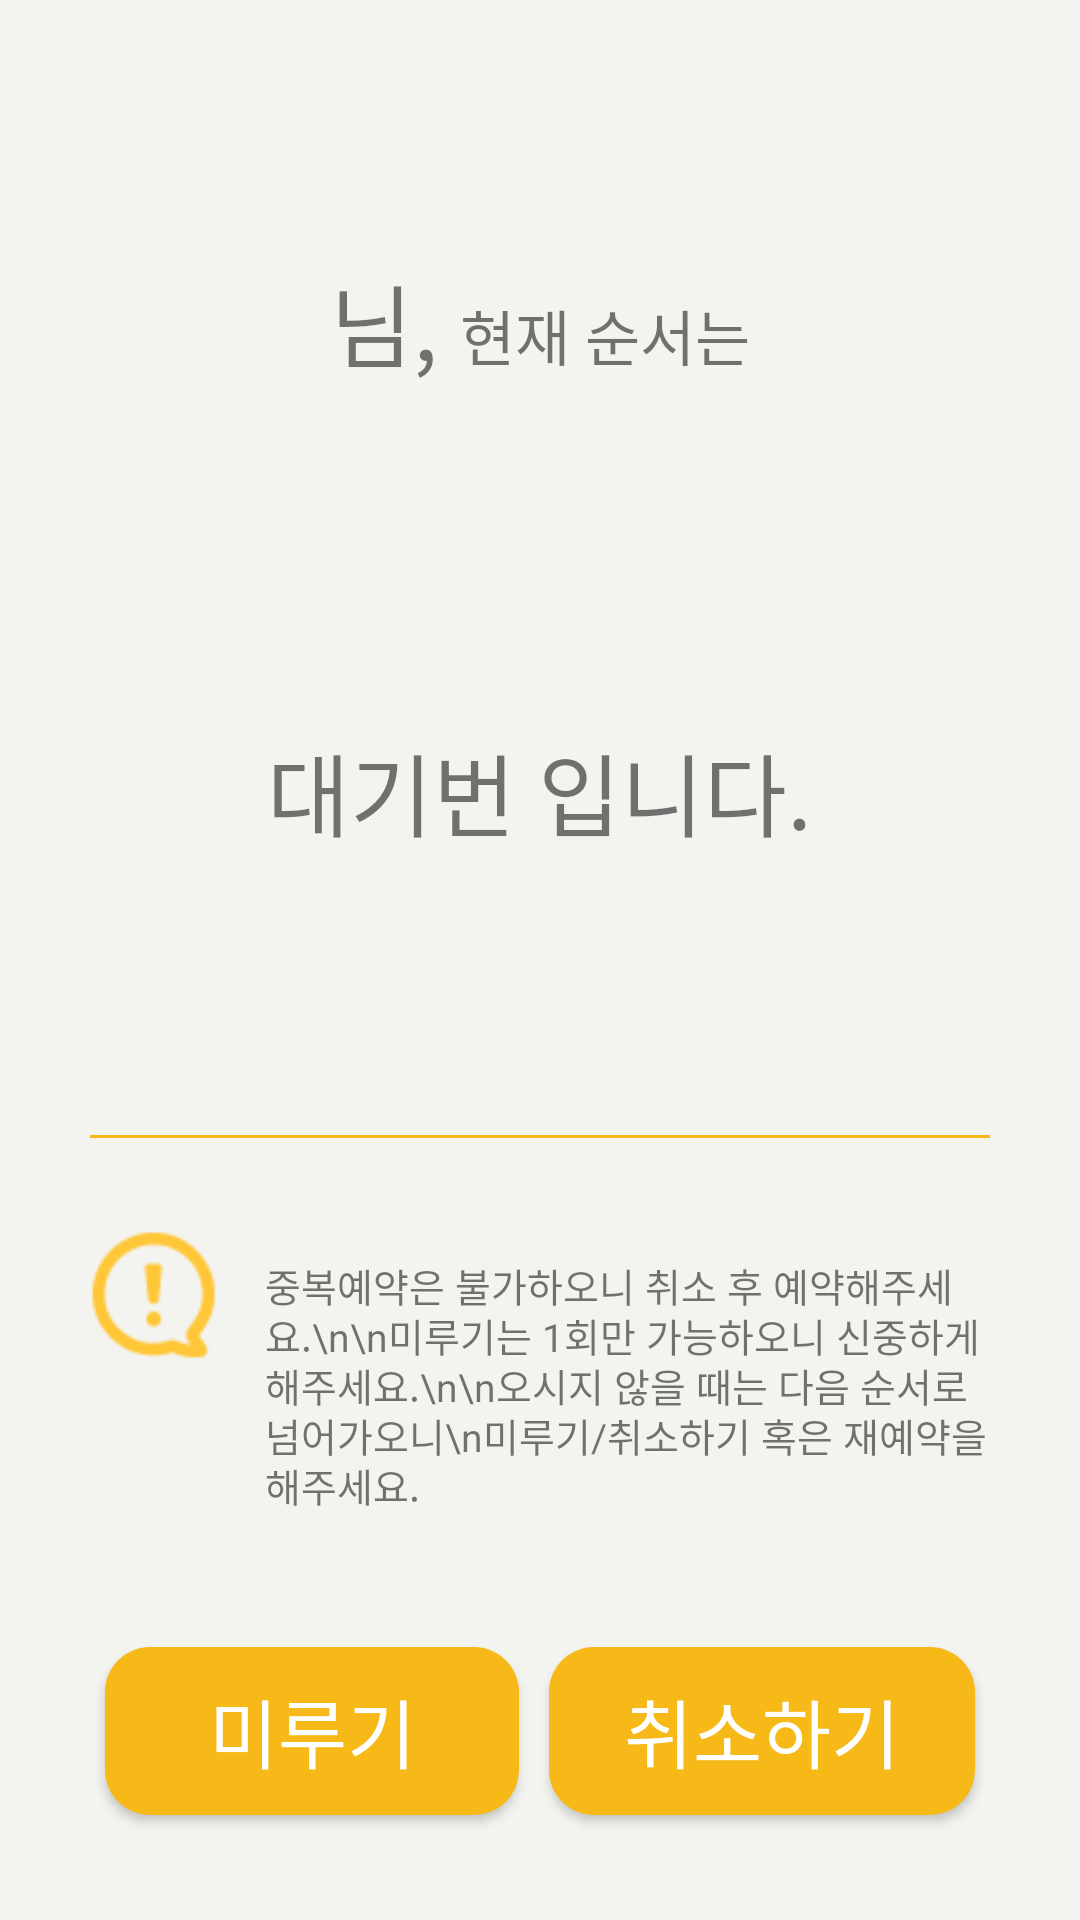

Named icons in this screenshot (1080×1920) and their bounding boxes, (x1, y1, x2, y2):
warn: (92, 1232, 216, 1358)
